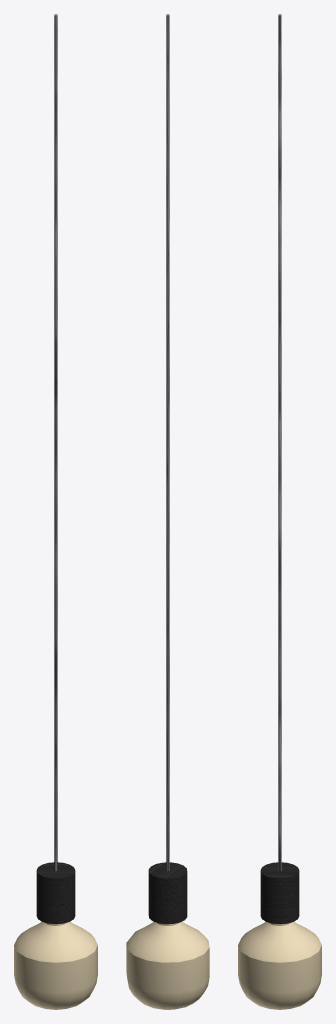
The model's file is lamp_TEcho.fbx.
The picture shows the model from 3 angles, left to right: view 1: azimuth 90°, elevation 25°; view 2: azimuth 150°, elevation 25°; view 3: azimuth 270°, elevation 25°; orthographic projection.
Parts seen in each view (by area): view 1: lamp TEcho; view 2: lamp TEcho; view 3: lamp TEcho.
Part boxes in pixels (bbox=[...]): lamp TEcho: bbox=[14, 14, 97, 1009]; lamp TEcho: bbox=[126, 14, 209, 1009]; lamp TEcho: bbox=[238, 14, 321, 1009].
Bounding box in the file's own units: 17.64 × 229 × 17.64.
